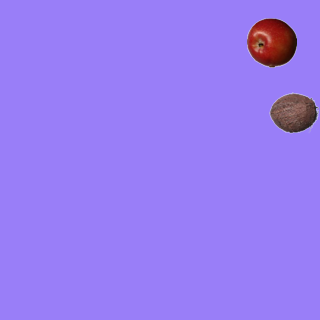Apple Braeburn: (246, 17, 296, 67)
Cocos: (268, 87, 318, 137)
